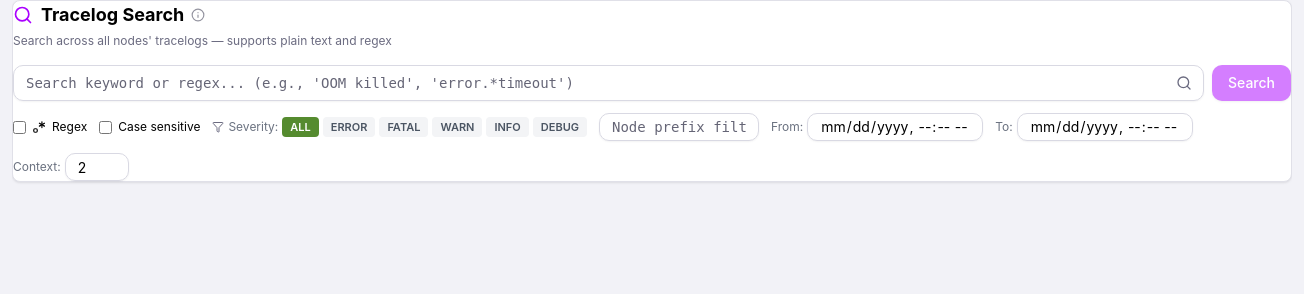
it: LogSearch result panel › clears prior matches when reportId changes
Type "BottleGrpc" into the field with test id "log-search-input" at (608, 83), box x1=13 y1=65 x2=1204 y2=101
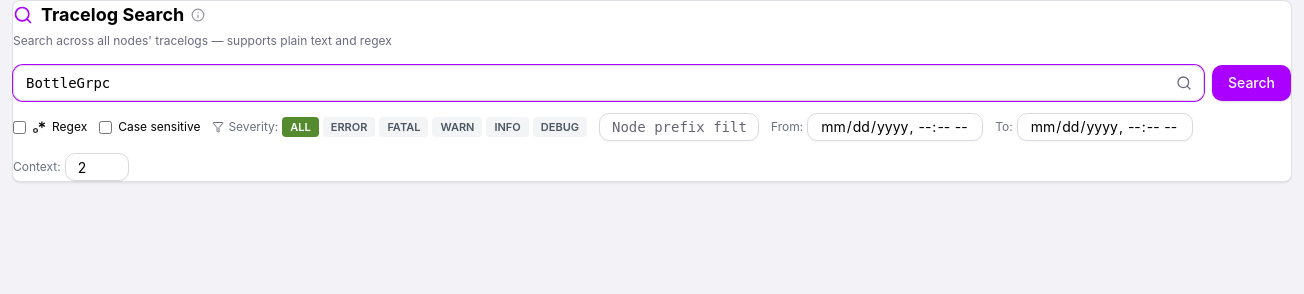
Click the button "Search" at (1252, 83), box x1=1212 y1=65 x2=1291 y2=101
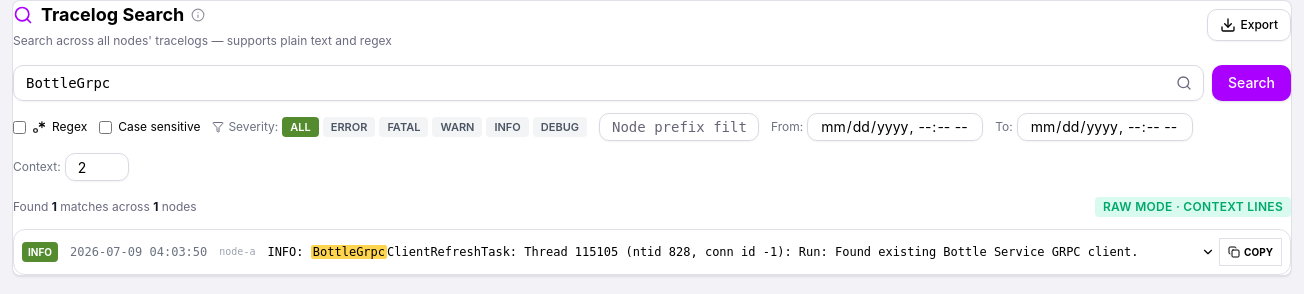
expect the element with test id "log-search-result-0" is shown: met, box x1=13 y1=229 x2=1291 y2=275
